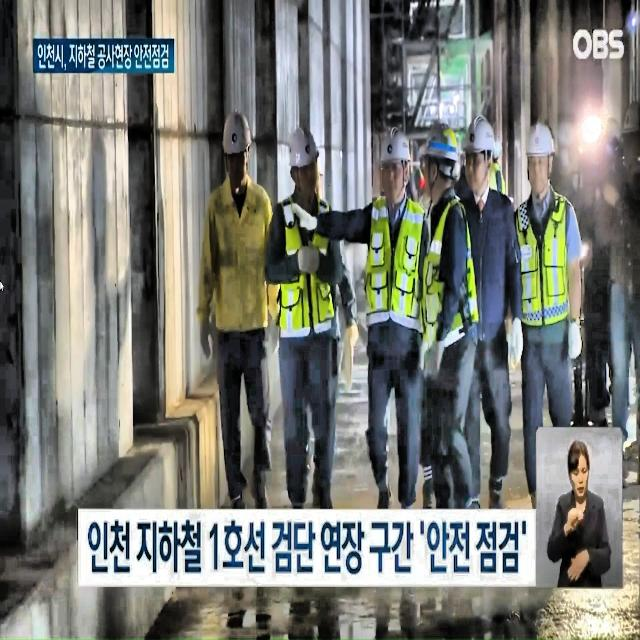safety_helmet: (419, 123, 465, 172), (463, 114, 499, 164), (224, 102, 252, 158), (290, 123, 322, 171), (381, 128, 412, 170), (524, 119, 557, 158)
safety_jacket: (279, 190, 339, 340), (366, 188, 426, 334), (515, 194, 574, 328), (422, 198, 477, 328)
